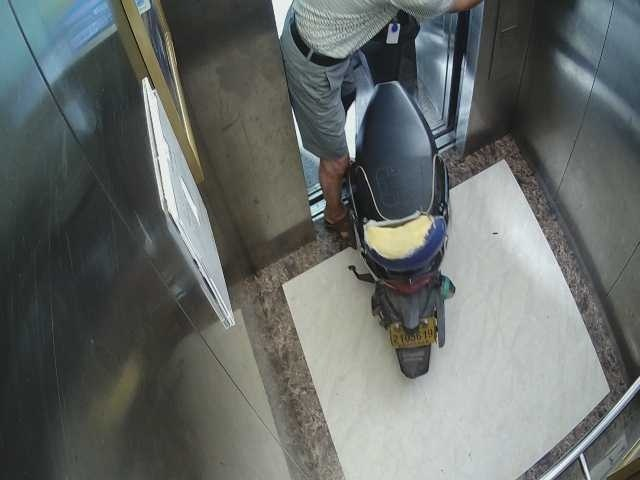emotor: (339, 26, 464, 378)
